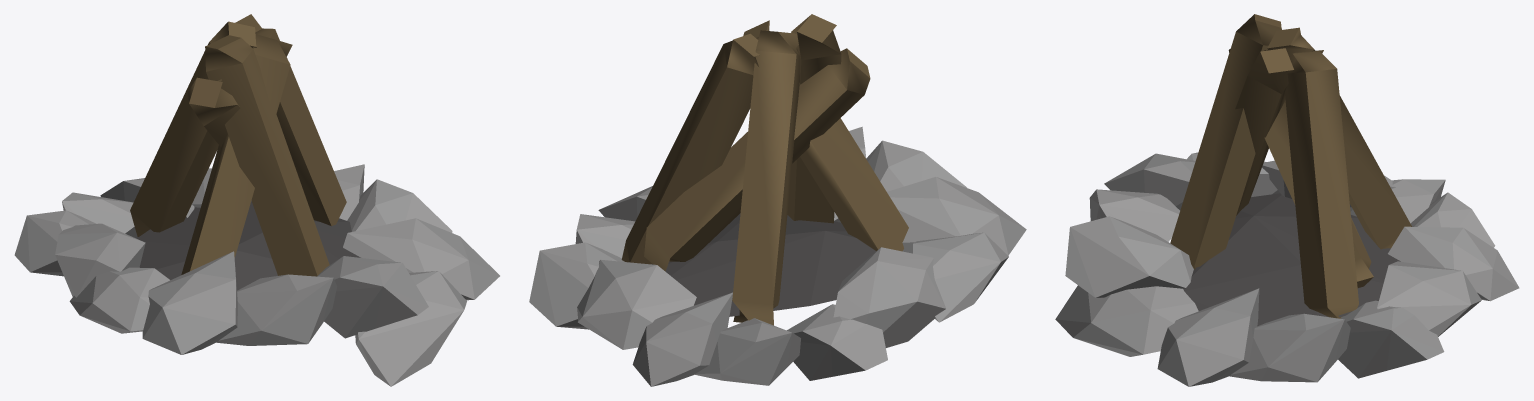
File: campfire.fbx
The picture shows the model from 3 angles, left to right: view 1: azimuth 30°, elevation 25°; view 2: azimuth 150°, elevation 25°; view 3: azimuth 270°, elevation 25°; orthographic projection. The views are drawn at different scales.
Parts seen in each view (by area): view 1: campfire; view 2: campfire; view 3: campfire.
Boxes of the visible parts, x1,y1,x2,y2 form: campfire: (14,14,499,386); campfire: (529,14,1026,386); campfire: (1055,14,1519,386).
Bounding box in the file's own units: 157 × 112 × 167.
